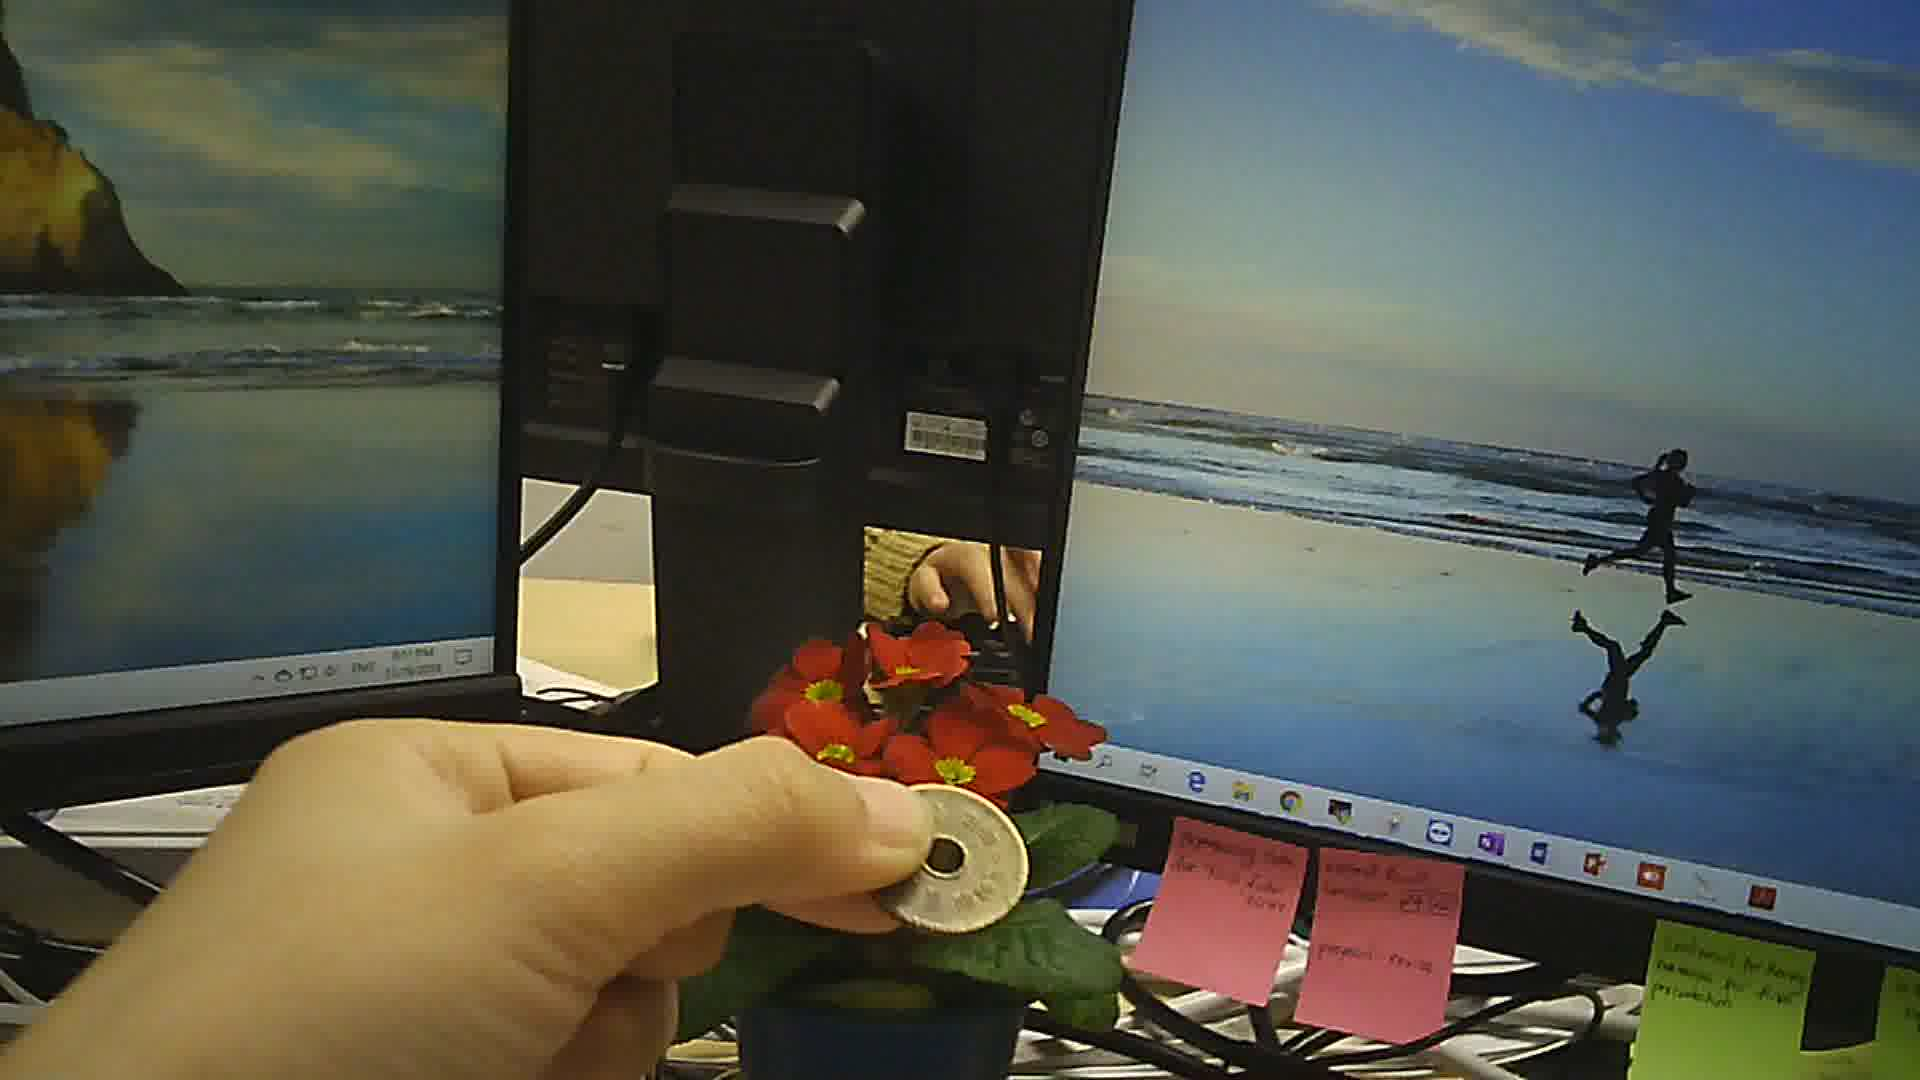5 Yen: (862, 775, 1036, 935)
